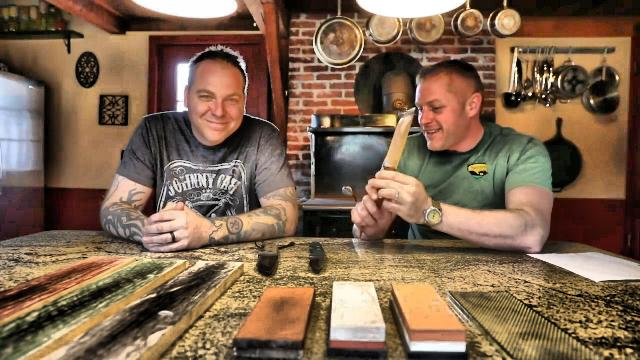knife: (360, 102, 424, 192)
